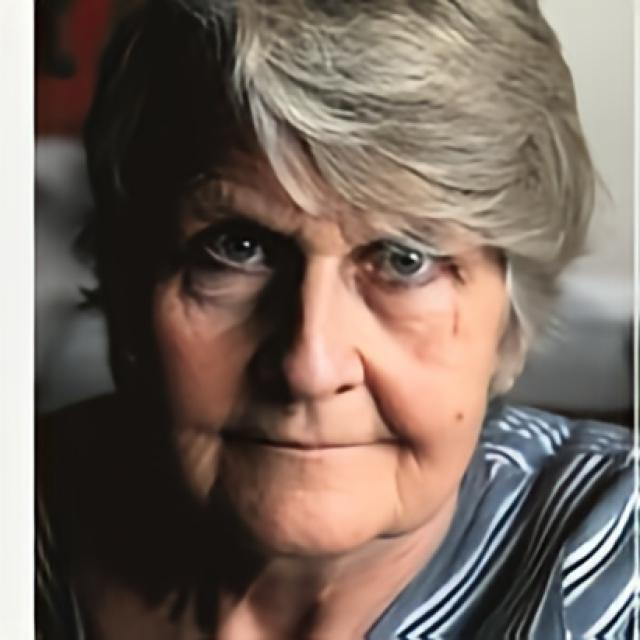anger: (146, 92, 502, 553)
